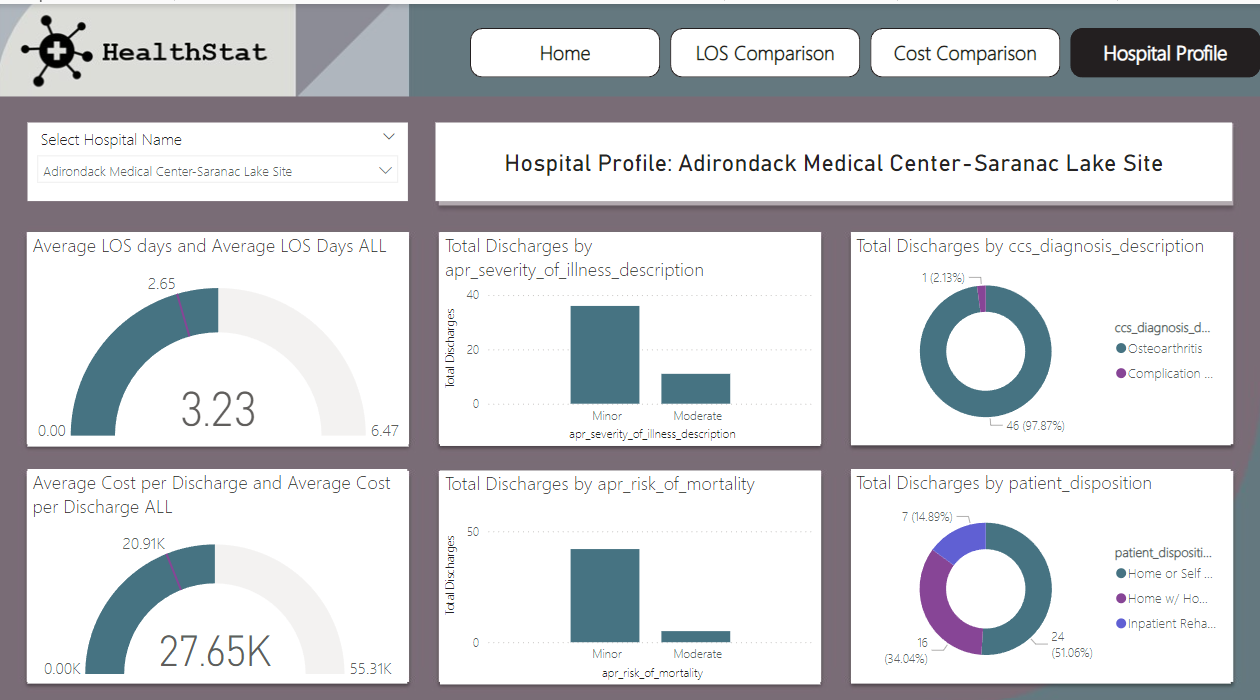

The dashboard page shown, as its layout file describes it:
{"tool":"powerbi","page":{"name":"Hospital Profile","canvas":[1280,720],"ordinal":3},"visuals":[{"type":"gauge","fields":{"Y":["hospital_discharges.Average LOS days"],"TargetValue":["hospital_discharges.Average LOS Days ALL"]},"box":[31.1,230,384.4,216.7],"z":0},{"type":"gauge","fields":{"Y":["hospital_discharges.Average Cost per Discharge"],"TargetValue":["hospital_discharges.Average Cost per Discharge ALL"]},"box":[31.1,470,383.3,216.7],"z":1000},{"type":"clusteredColumnChart","fields":{"Category":["hospital_discharges.apr_severity_of_illness_description"],"Y":["hospital_discharges.Total Discharges"]},"box":[447.8,230,384,216],"z":2000},{"type":"clusteredColumnChart","fields":{"Category":["hospital_discharges.apr_risk_of_mortality"],"Y":["hospital_discharges.Total Discharges"]},"box":[447.8,470.3,384,216],"z":3000},{"type":"donutChart","fields":{"Category":["hospital_discharges.ccs_diagnosis_description"],"Y":["hospital_discharges.Total Discharges"]},"box":[863.3,230,383.3,215.6],"z":4000},{"type":"donutChart","fields":{"Y":["hospital_discharges.Total Discharges"],"Category":["hospital_discharges.patient_disposition"]},"box":[863.3,470,383.3,216.7],"z":5000},{"type":"slicer","fields":{"Values":["hospital_discharges.facility_name"]},"box":[31.1,119.3,383.8,79.5],"z":6000},{"type":"card","fields":{"Values":["hospital_discharges.Title Selected Facility"]},"box":[444.3,119.3,804,79.5],"z":7000},{"type":"pageNavigator","box":[478.9,24.2,800.5,50.1],"z":7001}]}

Visuals, with their boxes in screenshot pixels (x1, y1, x2, y2), scaled from the page's 1280x720 canvas onto the 1260x700 screenshot:
gauge - hospital_discharges.Average LOS days x hospital_discharges.Average LOS Days ALL: (x1=31, y1=224, x2=409, y2=434)
gauge - hospital_discharges.Average Cost per Discharge x hospital_discharges.Average Cost per Discharge ALL: (x1=31, y1=457, x2=408, y2=668)
clusteredColumnChart - hospital_discharges.apr_severity_of_illness_description x hospital_discharges.Total Discharges: (x1=441, y1=224, x2=819, y2=434)
clusteredColumnChart - hospital_discharges.apr_risk_of_mortality x hospital_discharges.Total Discharges: (x1=441, y1=457, x2=819, y2=667)
donutChart - hospital_discharges.ccs_diagnosis_description x hospital_discharges.Total Discharges: (x1=850, y1=224, x2=1227, y2=433)
donutChart - hospital_discharges.Total Discharges x hospital_discharges.patient_disposition: (x1=850, y1=457, x2=1227, y2=668)
slicer - hospital_discharges.facility_name: (x1=31, y1=116, x2=408, y2=193)
card - hospital_discharges.Title Selected Facility: (x1=437, y1=116, x2=1229, y2=193)
pageNavigator: (x1=471, y1=24, x2=1259, y2=72)
